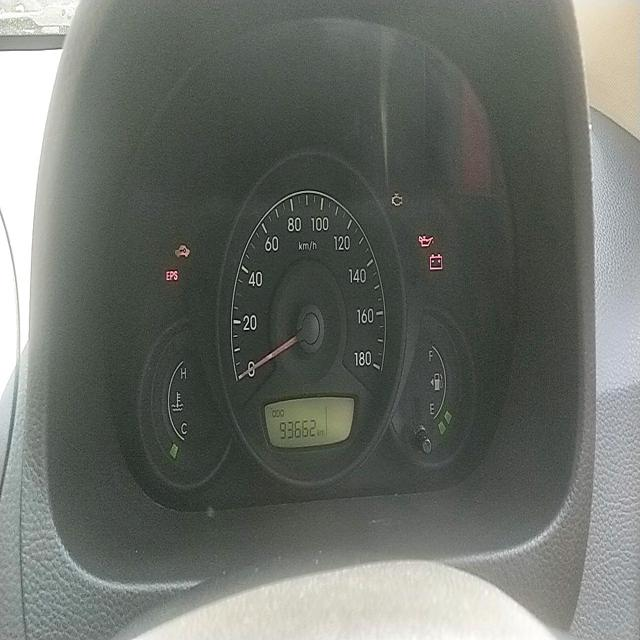odometer: (279, 416, 316, 440)
